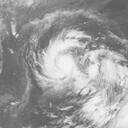cyclone: (30, 29, 93, 97)
